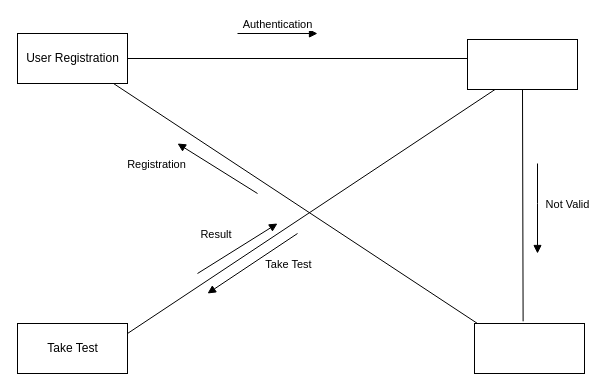
Some shapes in this 607 by 391 pixel diagram are drawn without their labels. Each missing label, with the centre of its shape:
"Main Page" belongs at point 529,348.
"System Database" belongs at point 522,64.
